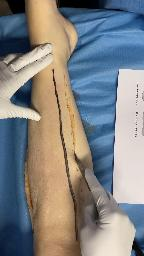scalpel: (74, 152, 92, 194)
